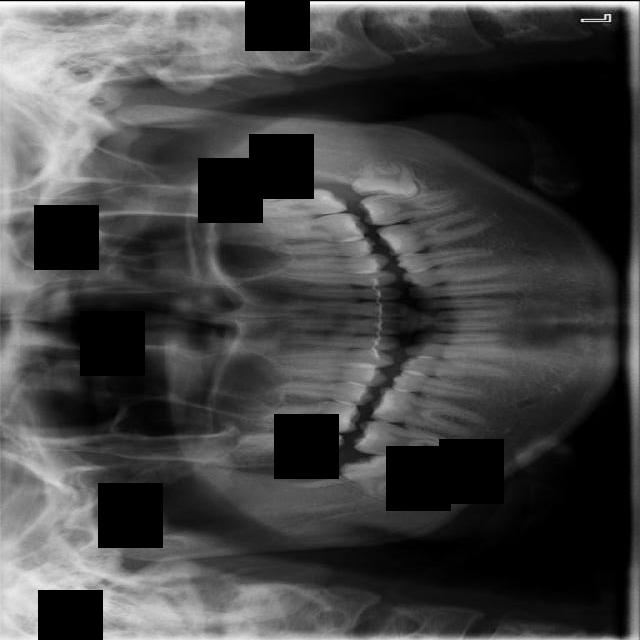73: (540, 42, 562, 64)
BioHorizons Implant: (225, 185, 348, 222)
BioLife Implant: (202, 175, 296, 206)
Biomet 3i Implant: (351, 152, 421, 199)
Blue Sky Bio Implant: (358, 188, 463, 226)
Caries: (223, 430, 345, 460)
Implant: (353, 417, 463, 464)
Keystone Dental Implant: (338, 445, 414, 512)
